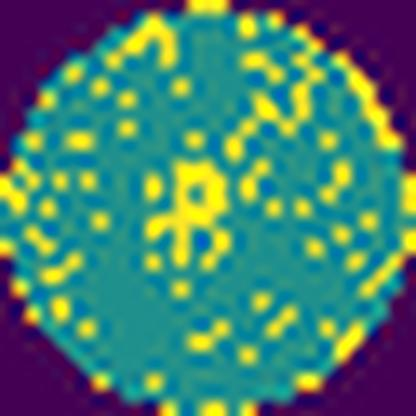Center: (140, 159, 231, 278)
